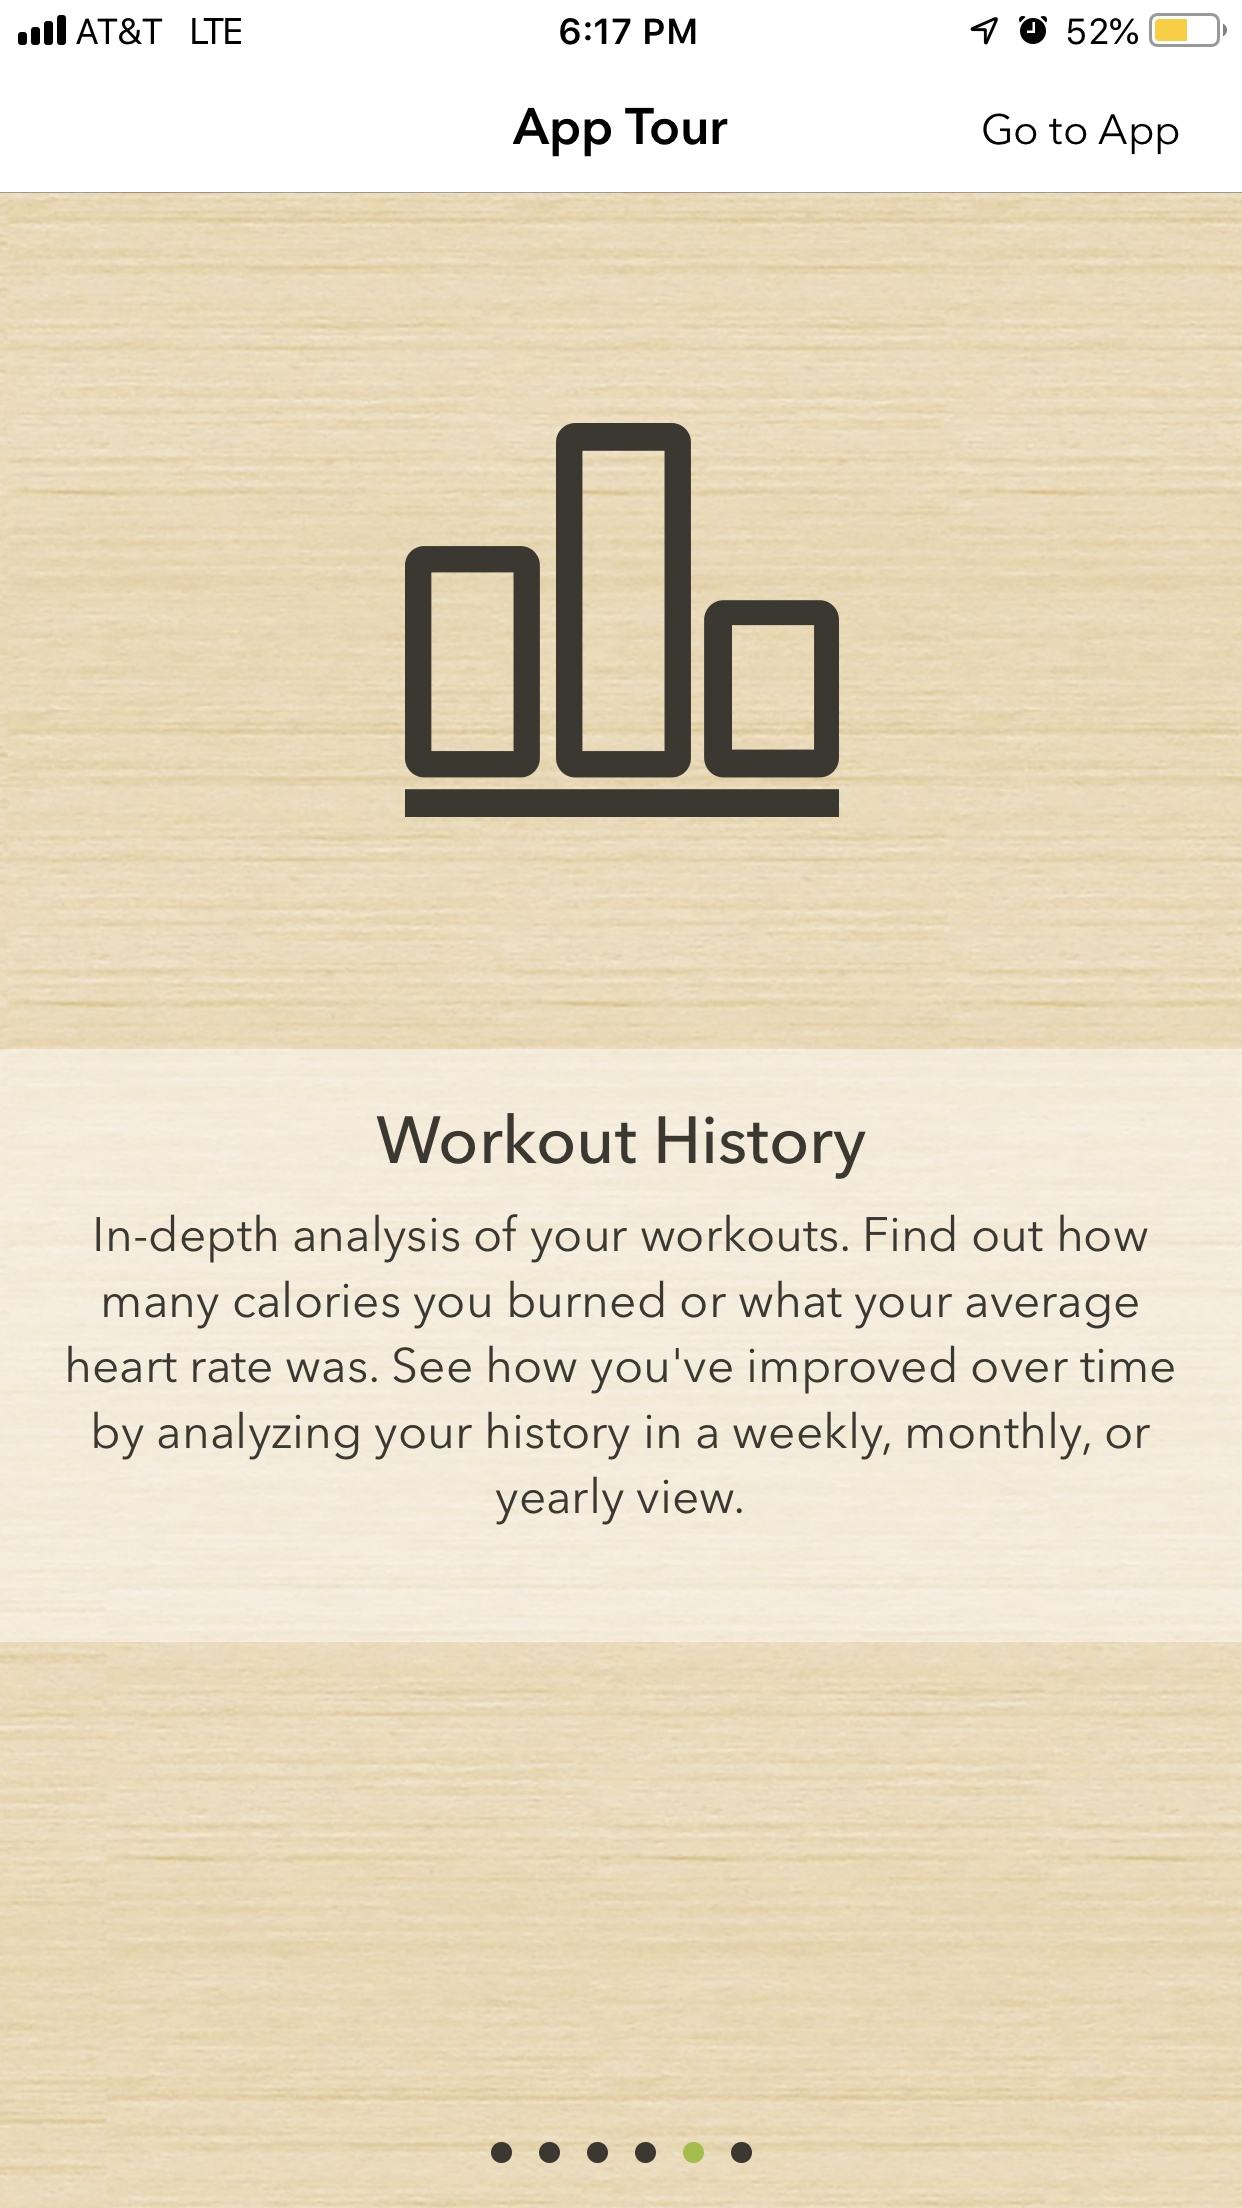Image: (405, 423, 842, 819)
PageIndicator: (490, 2140, 754, 2164)
Text: (68, 1213, 1175, 1526), (376, 1112, 867, 1180), (513, 108, 729, 158), (983, 114, 1178, 156)
UpperTaskBar: (2, 2, 1242, 49)
